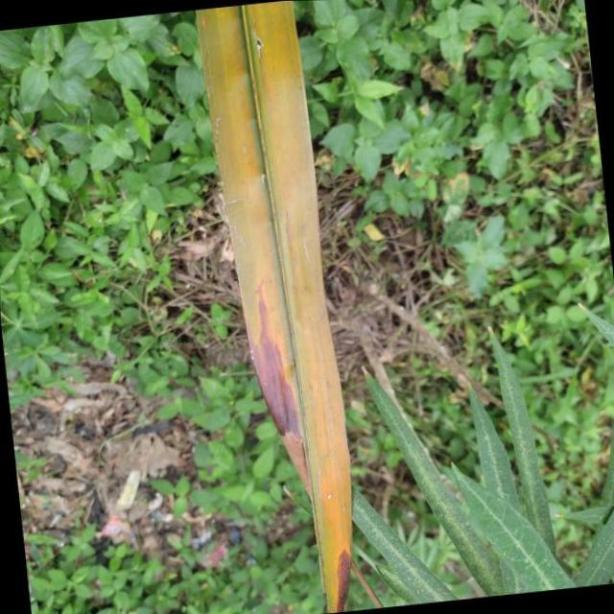Megnesium: (195, 0, 355, 614)
